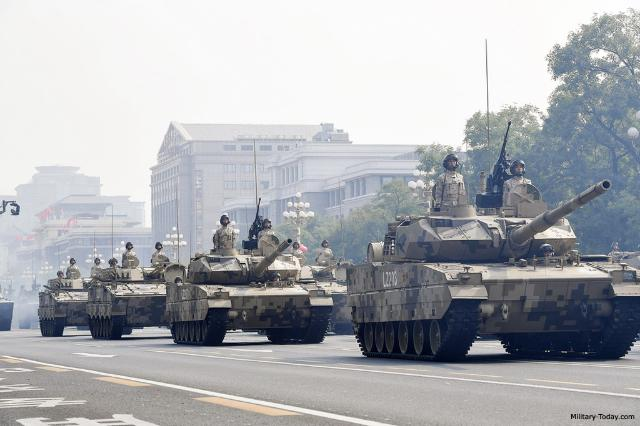other: (437, 155, 468, 205), (504, 158, 528, 196), (213, 215, 235, 242), (259, 217, 273, 235), (290, 237, 304, 254), (122, 239, 136, 254), (152, 240, 164, 252), (322, 240, 332, 252), (92, 255, 101, 265), (68, 258, 76, 266), (56, 269, 64, 276), (112, 255, 118, 264), (30, 279, 36, 288)
tank: (353, 211, 639, 352), (170, 249, 324, 336), (86, 267, 160, 332), (40, 279, 80, 334)
